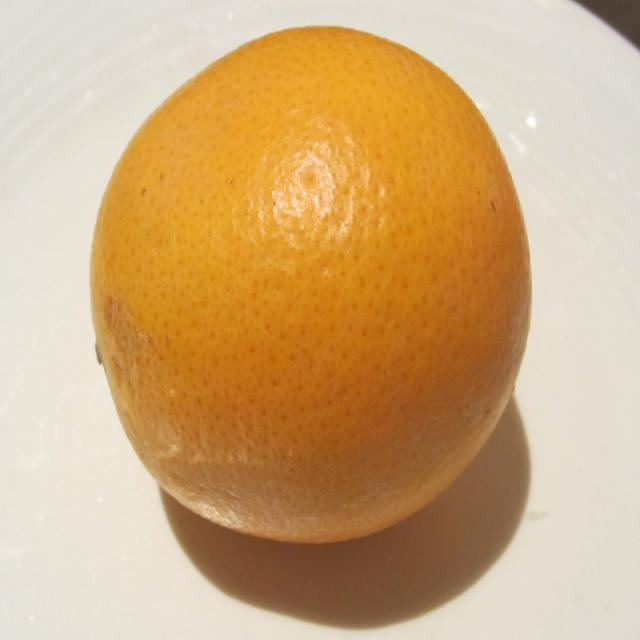Orange: (77, 27, 538, 541)
